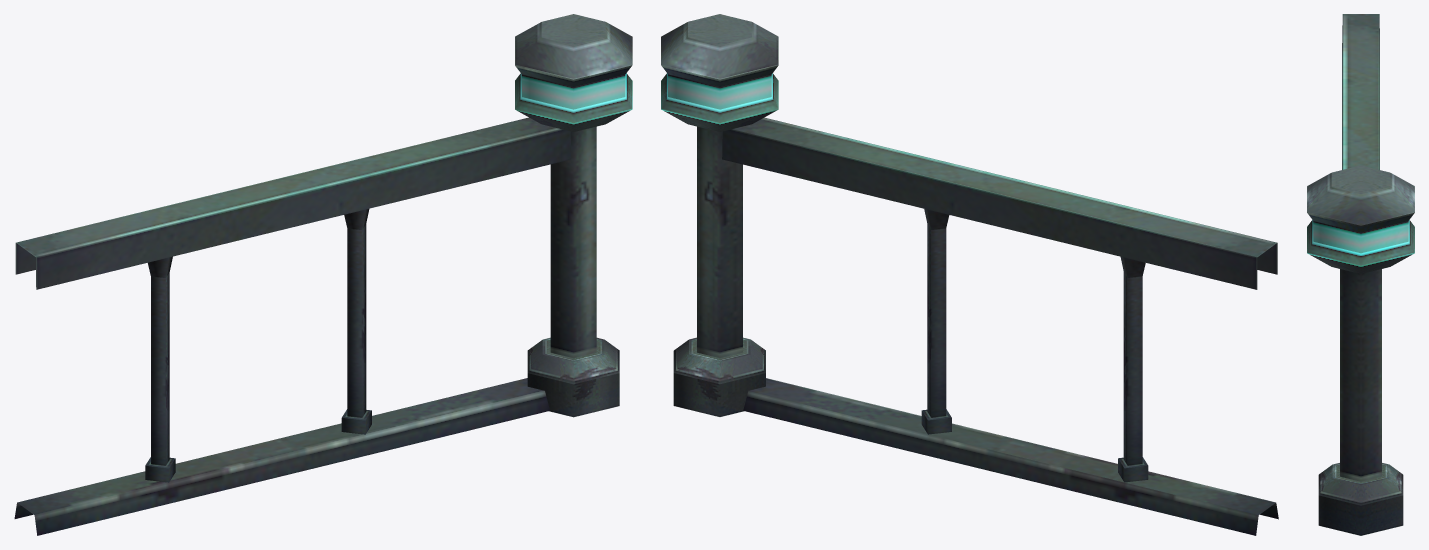
File: yw_museyulin_langan01.FBX
3 views of the same model, side by side, from view 1: azimuth 30°, elevation 25°; view 2: azimuth 150°, elevation 25°; view 3: azimuth 270°, elevation 25° (orthographic). The views are drawn at different scales.
Visible parts, largest first — view 1: yw_museyulin_langan01; view 2: yw_museyulin_langan01; view 3: yw_museyulin_langan01.
Part boxes in pixels (x1=…): yw_museyulin_langan01: x1=14, y1=14, x2=632, y2=535; yw_museyulin_langan01: x1=661, y1=14, x2=1278, y2=535; yw_museyulin_langan01: x1=1307, y1=14, x2=1414, y2=535.
Size of the model in its own units: 323 by 186 by 54.13.
Materials: 1 (1 with a texture image).
